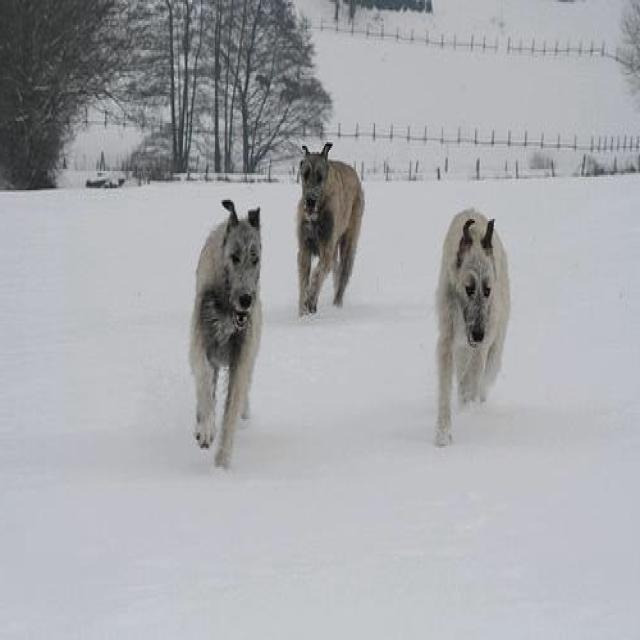irish_wolfhound: (187, 200, 265, 471), (428, 208, 514, 452), (290, 140, 366, 320)
